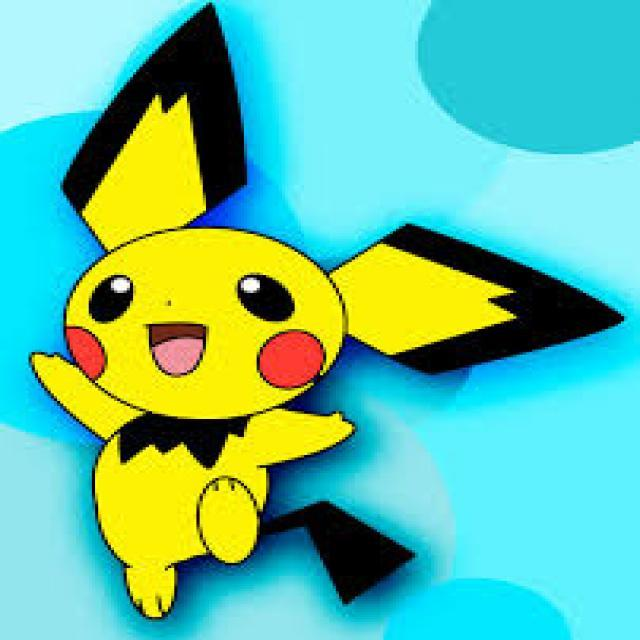pichu: (4, 7, 622, 640)
